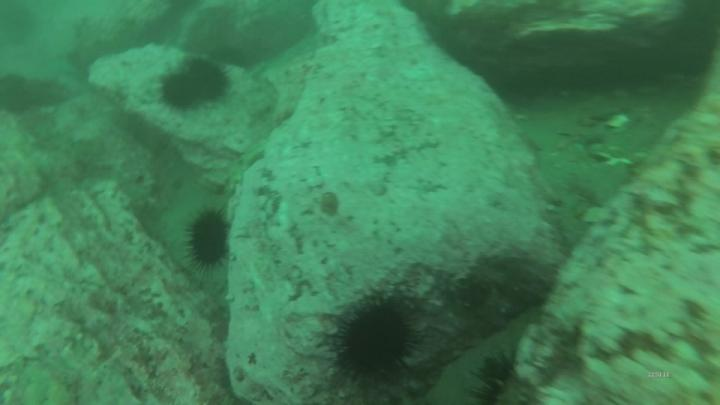echinus: (330, 294, 424, 388), (180, 207, 232, 274), (467, 351, 522, 405), (186, 54, 236, 102), (159, 69, 203, 112), (1, 73, 36, 118)
